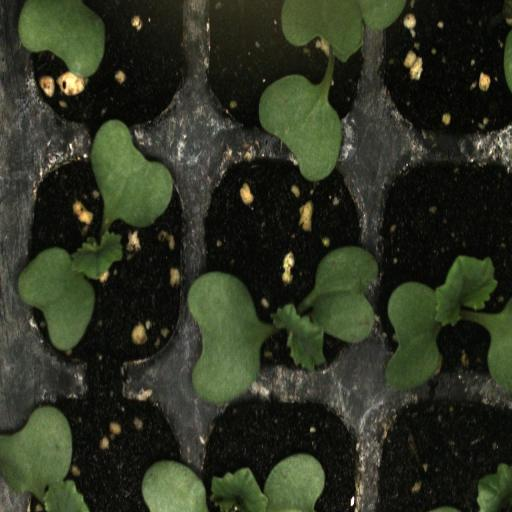seedling: (16, 134, 196, 383), (197, 146, 367, 383), (368, 147, 512, 385), (195, 0, 370, 142), (195, 383, 369, 512)
